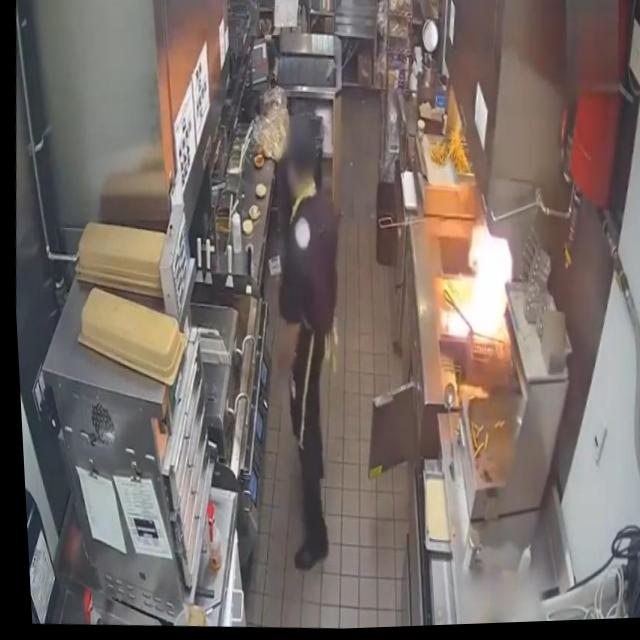fire: (441, 213, 519, 350)
